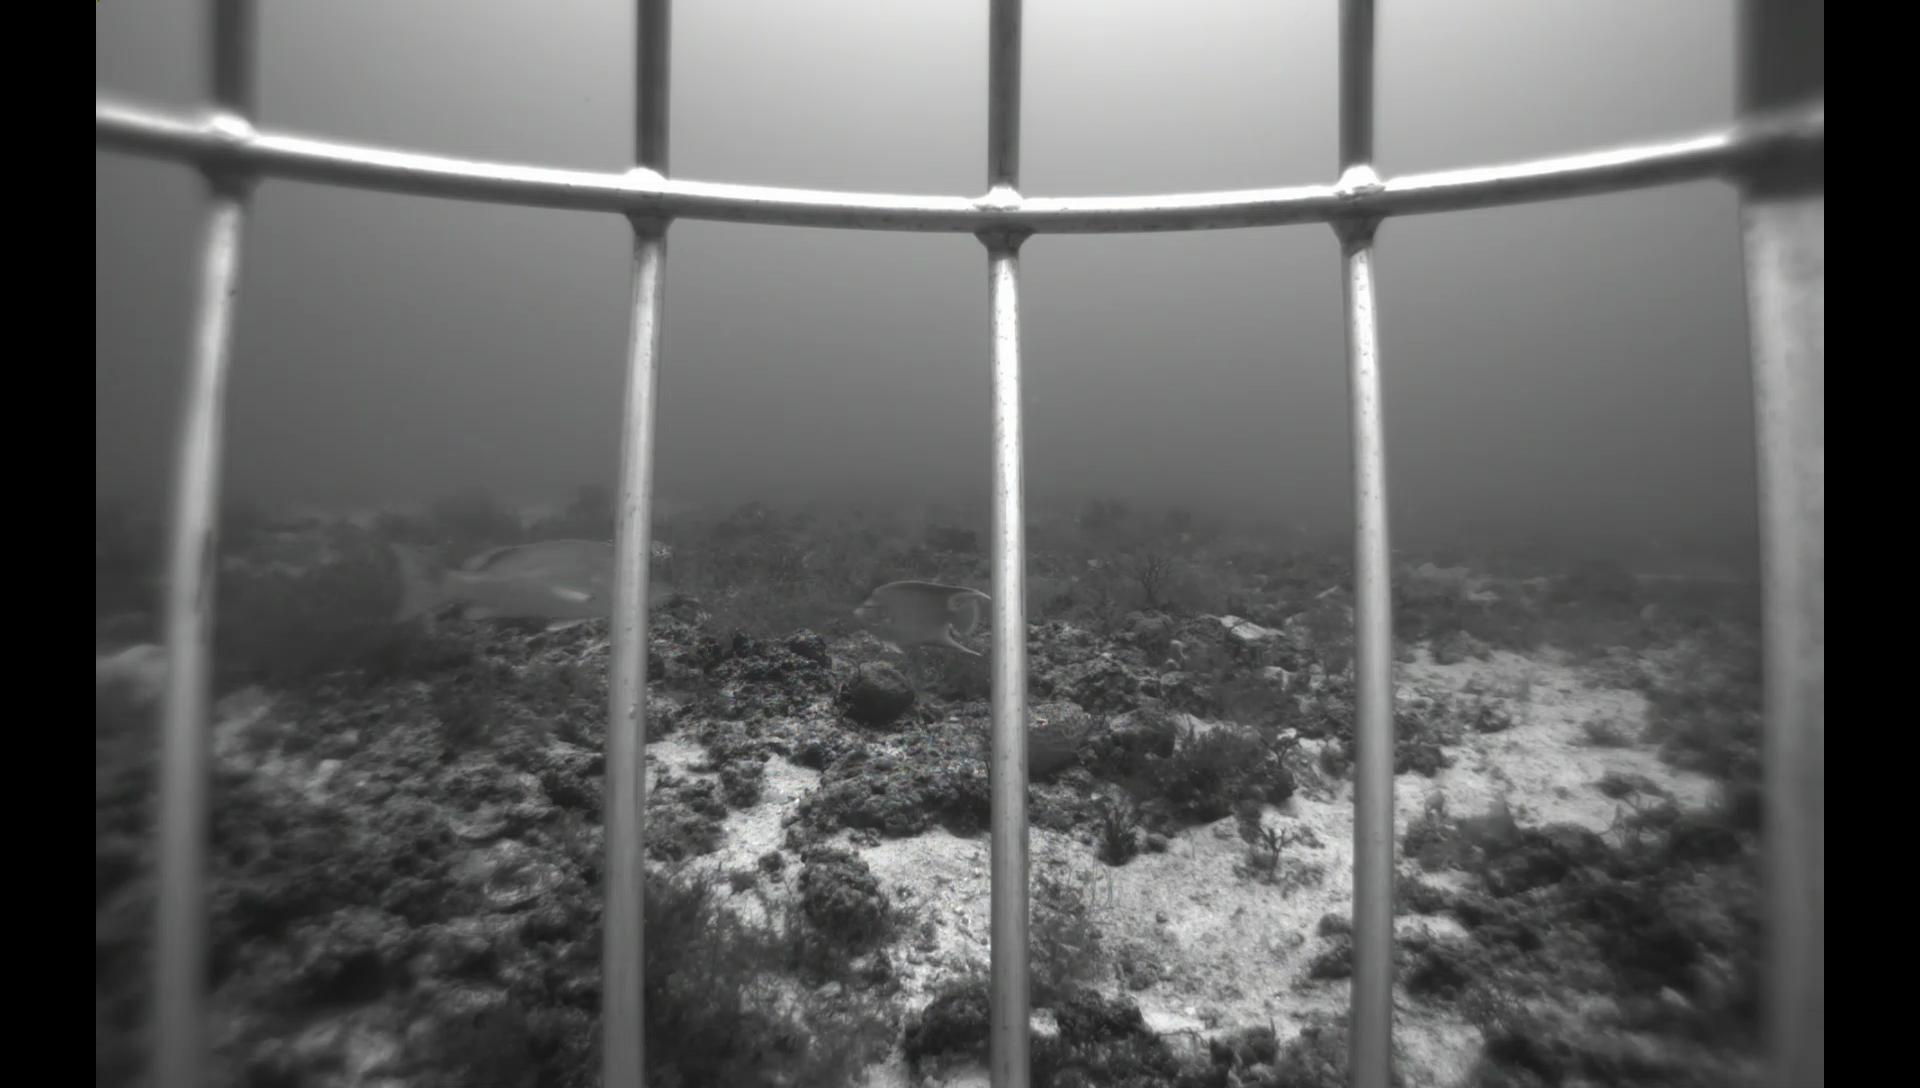HOLACANTHUSBERMUDENSIS-170290102: (845, 576, 992, 662)
LUTJANUSGRISEUS-170151109: (371, 528, 694, 642)
MYCTEROPERCAPHENAX-170022105: (843, 512, 891, 555)
